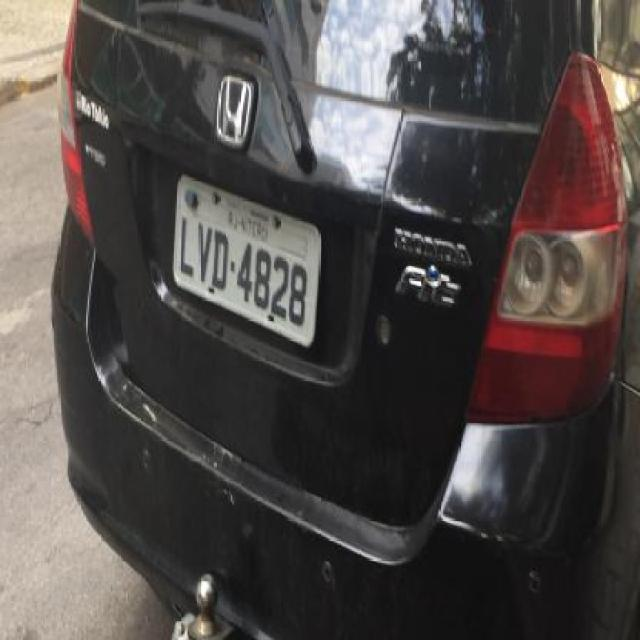old_plate: (165, 167, 330, 353)
